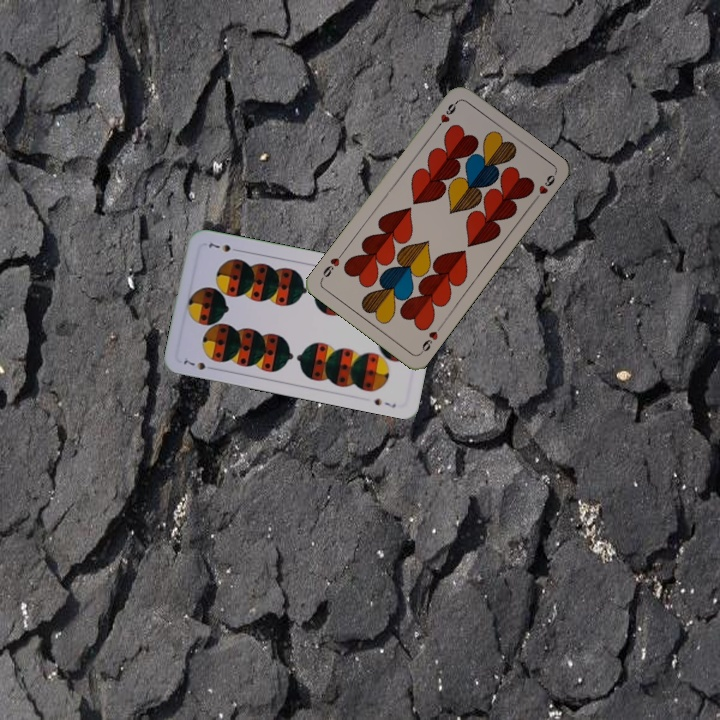H9: (416, 321, 445, 356), (432, 97, 460, 132)
S7: (179, 353, 218, 373)
